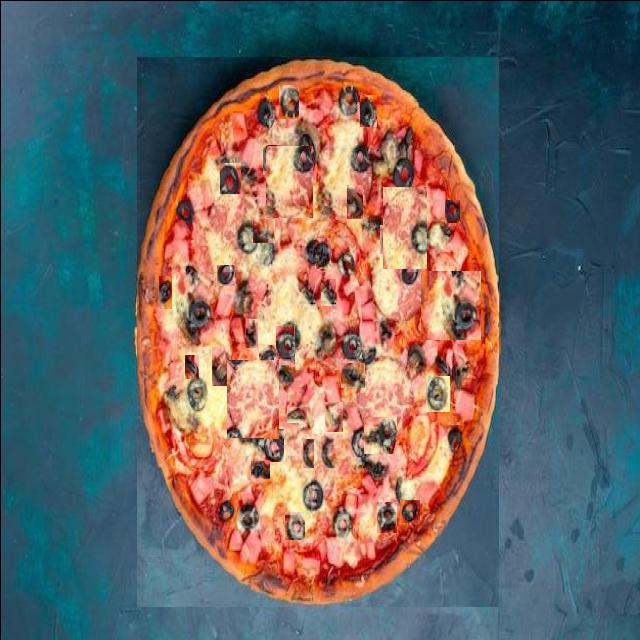olive: (363, 416, 396, 453), (425, 375, 449, 411), (335, 323, 358, 357), (317, 129, 337, 167), (275, 325, 294, 364), (312, 476, 332, 512), (211, 344, 229, 384), (263, 426, 283, 461), (425, 300, 448, 330), (278, 84, 298, 118), (219, 162, 240, 193), (379, 222, 400, 252), (376, 501, 396, 532), (340, 362, 364, 387), (262, 144, 282, 174), (223, 475, 240, 508), (284, 511, 304, 539), (359, 94, 376, 126), (346, 184, 362, 218), (324, 401, 342, 431), (252, 218, 274, 242), (280, 248, 298, 277), (167, 359, 183, 390), (435, 265, 454, 290), (315, 237, 330, 268), (399, 499, 419, 522), (170, 425, 185, 454), (158, 275, 171, 308), (258, 344, 275, 369), (320, 278, 335, 305), (360, 236, 374, 264), (442, 199, 458, 222), (216, 264, 233, 285), (245, 318, 257, 347), (250, 460, 269, 478), (455, 384, 472, 404), (184, 354, 198, 378), (286, 406, 306, 422), (302, 438, 313, 467)
pepperoni: (205, 235, 264, 321), (420, 268, 480, 338), (226, 359, 278, 437), (382, 186, 426, 268), (265, 145, 312, 217)
pizza: (136, 56, 498, 606)
